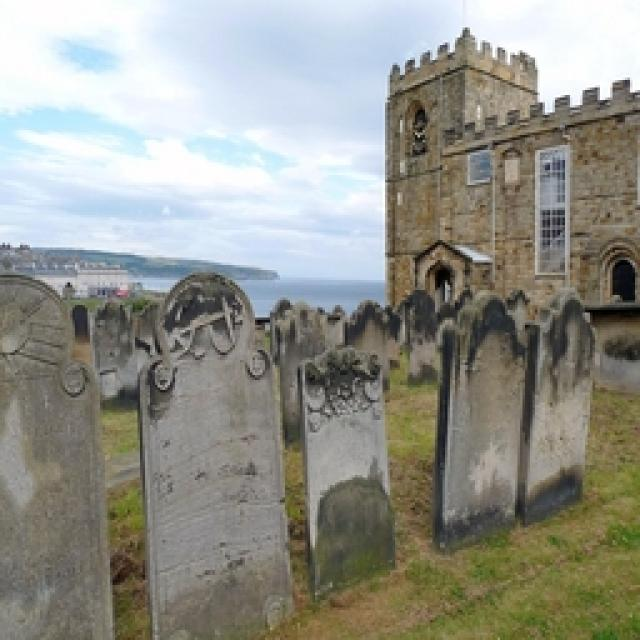Abbey: (398, 87, 640, 318)
